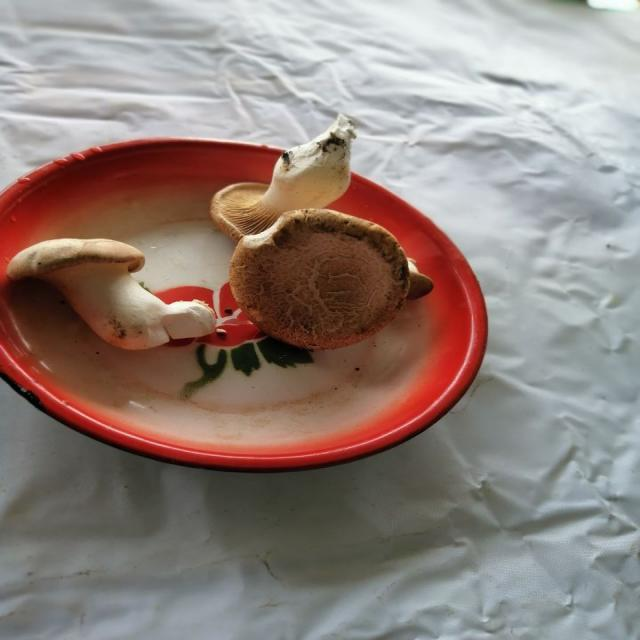Pleurotus cystidiosus: (231, 207, 429, 348), (15, 234, 222, 349), (214, 115, 351, 235)
